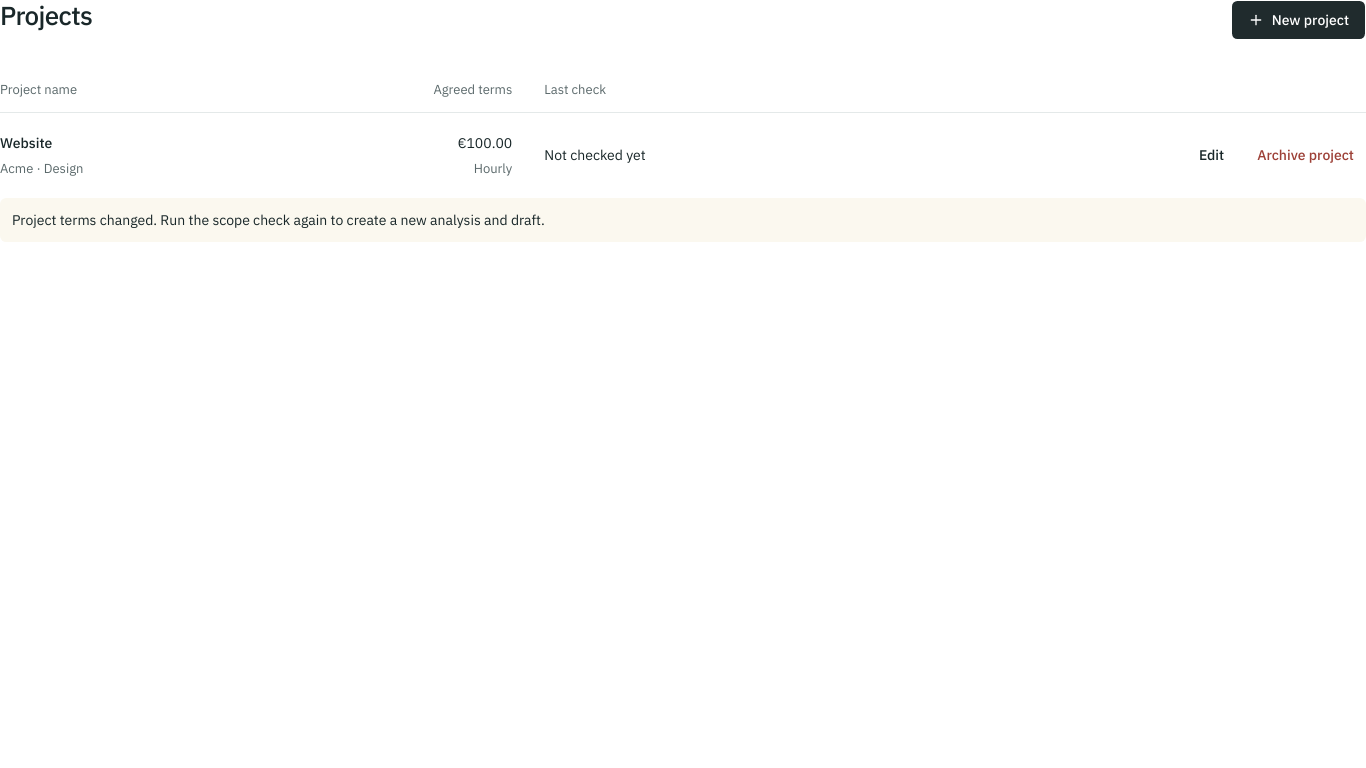
Test: uses real en strings in list confirmation and terms-changed feedback
Later steps or results of the test are not shown.
Expected: the text "Project terms changed. Run the scope check again to create a new analysis and draft." is shown, [12,211,545,229]
Click the button "Archive project".
click(1306, 155)  # box [1245,137,1365,173]
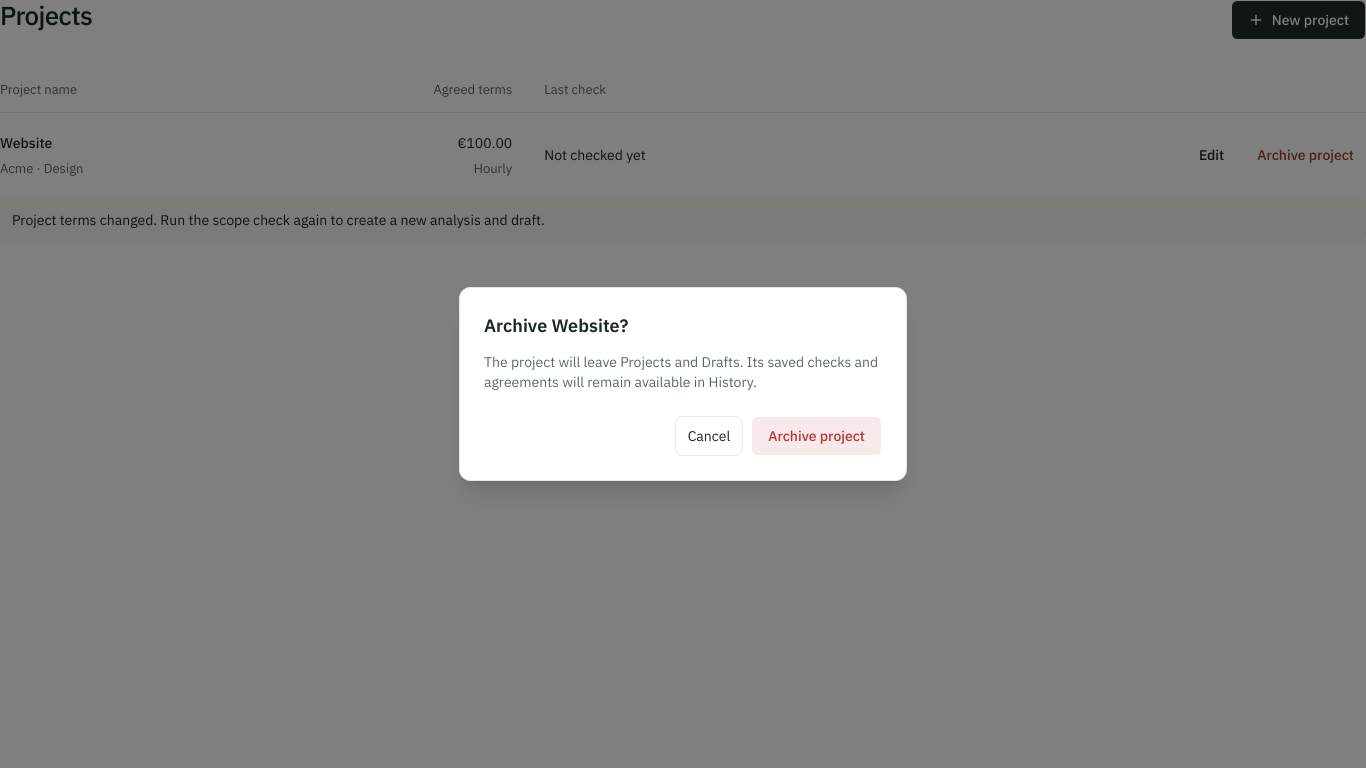
Now the text "The project will leave Projects and Drafts. Its saved checks and agreements will remain available in History." is shown, box [484,353,878,391]
Now the dialog shows "Website", box [484,314,628,337]
Click the button "Cancel".
click(709, 436)  # box [675,416,743,456]
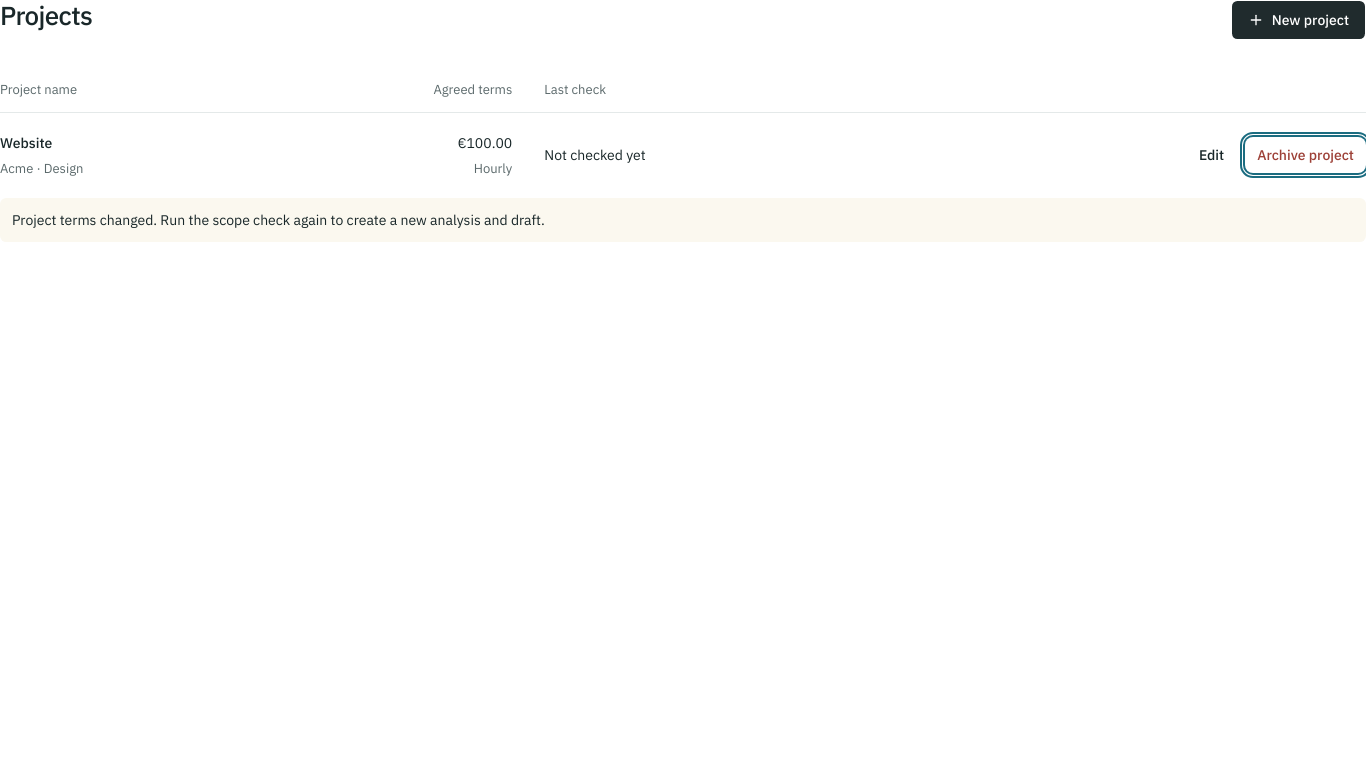
Now the dialog is gone
